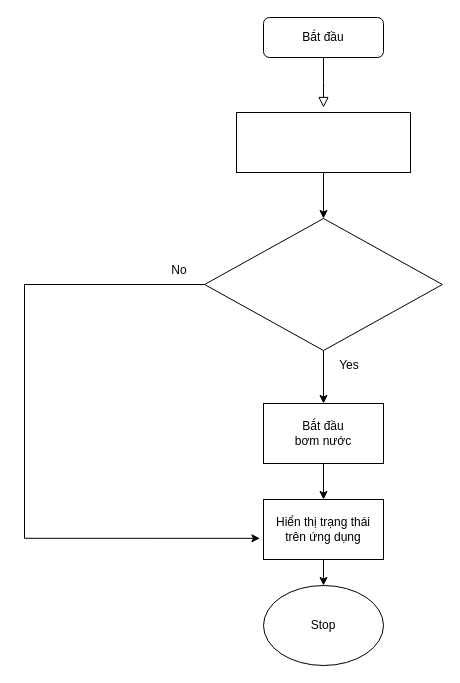
Image size: 460x683. Some labels were removed from this diagram. Each missing label, with the centre of its shape:
Kiểm tra độ ẩm, nhiệt độ Có vật che khuất ánh sáng của cây hay không?: (x=323, y=142)
Nhiệt độ > TEMP_SET Độ ẩm < HUM_SET TIMER_SWITCH = 0: (x=323, y=284)
